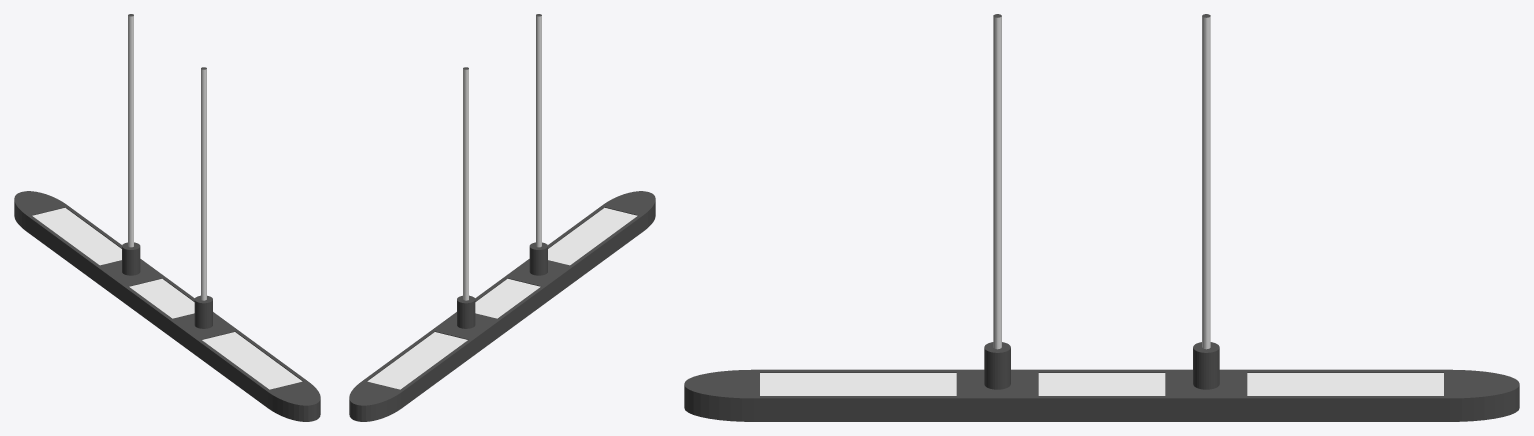
The model's file is industriallamp.fbx.
The picture shows the model from 3 angles, left to right: view 1: azimuth 30°, elevation 25°; view 2: azimuth 150°, elevation 25°; view 3: azimuth 270°, elevation 25°; orthographic projection. The views are drawn at different scales.
Visible parts, largest first — view 1: Lämp, Light; view 2: Lämp, Light; view 3: Lämp, Light.
Boxes of the visible parts, bbox=[...] form: Lämp: bbox=[14, 14, 320, 421]; Light: bbox=[32, 207, 302, 389]; Lämp: bbox=[349, 14, 655, 421]; Light: bbox=[367, 207, 637, 389]; Lämp: bbox=[684, 14, 1519, 421]; Light: bbox=[760, 373, 1443, 395].
Bounding box in the file's own units: 110 × 700 × 1353.
